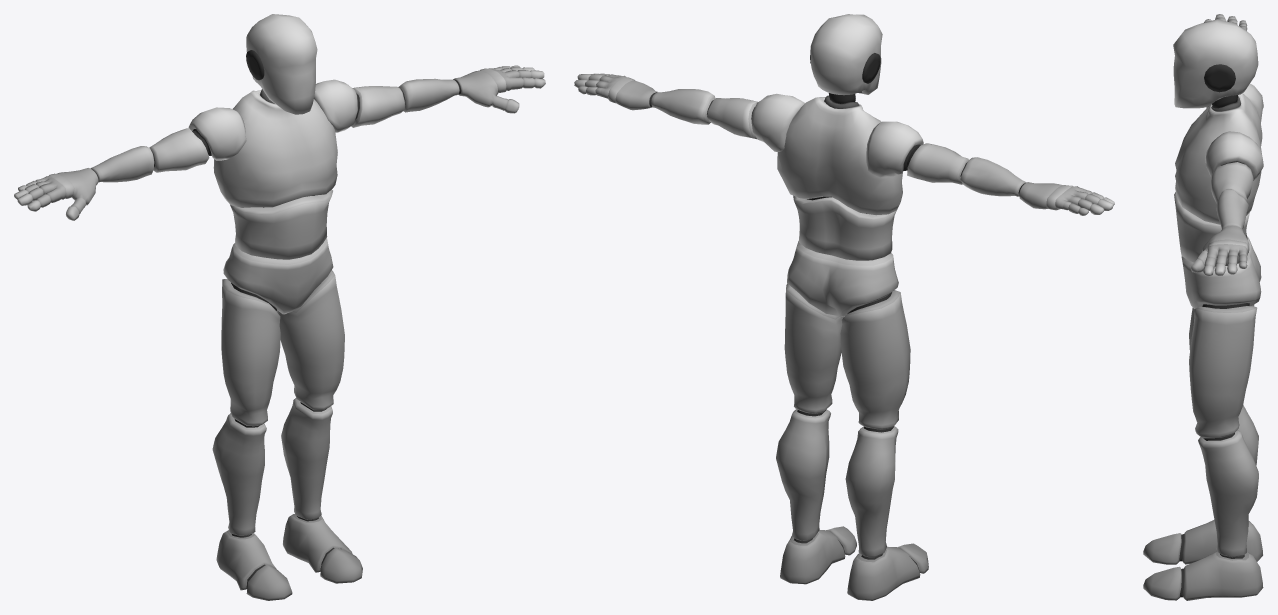
The model's file is troop_spear.glb.
The picture shows the model from 3 angles, left to right: view 1: azimuth 30°, elevation 25°; view 2: azimuth 150°, elevation 25°; view 3: azimuth 270°, elevation 25°; orthographic projection.
Parts seen in each view (by area): view 1: troop_spear; view 2: troop_spear; view 3: troop_spear.
Boxes of the visible parts, x1,y1,x2,y2 form: troop_spear: (14, 14, 545, 600); troop_spear: (574, 14, 1114, 600); troop_spear: (1143, 14, 1263, 600).
Size of the model in its own units: 1.72 by 1.72 by 0.3419.
Materials: 1 (1 with a texture image).
